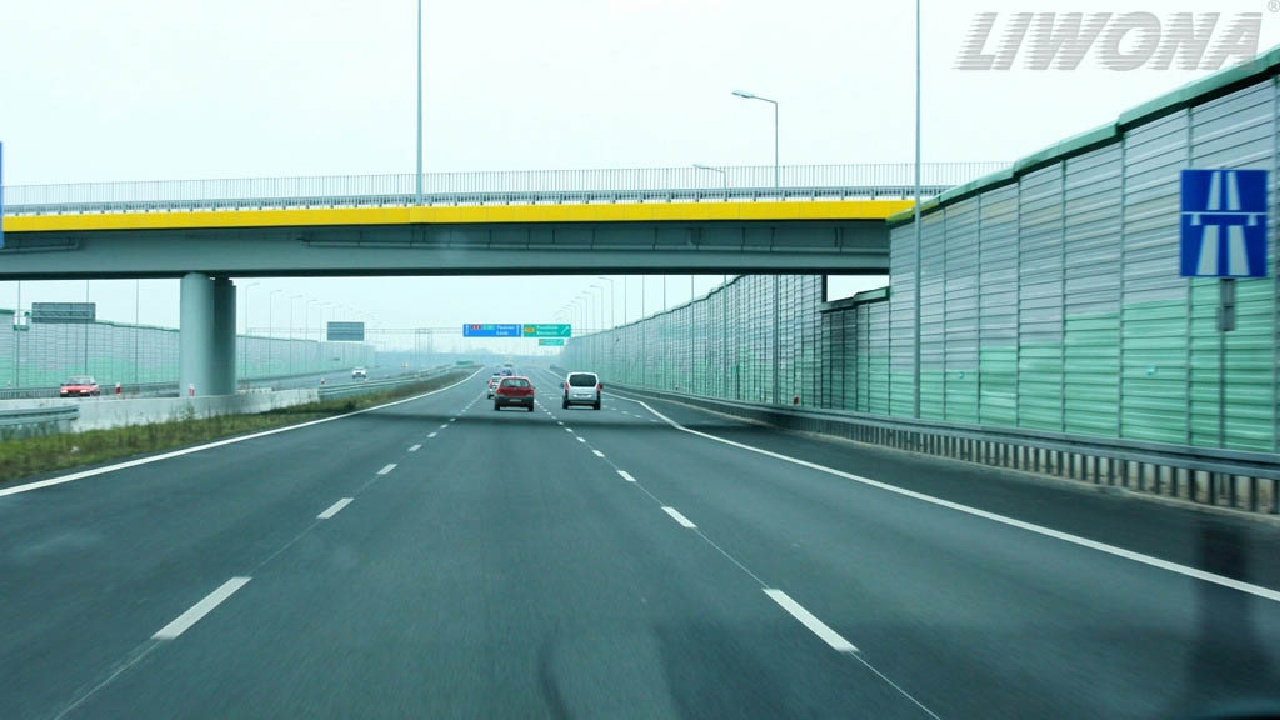D9: (1180, 168, 1267, 278)
